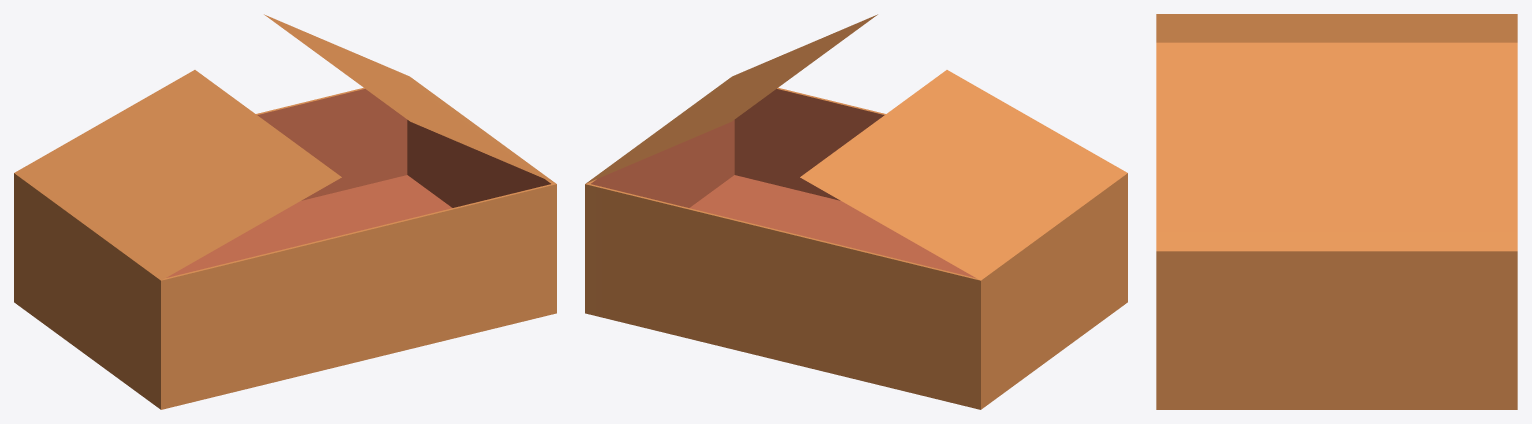
File: Map02_Decor_Thunggiay_03.fbx
3 views of the same model, side by side, from view 1: azimuth 30°, elevation 25°; view 2: azimuth 150°, elevation 25°; view 3: azimuth 270°, elevation 25° (orthographic). The views are drawn at different scales.
Visible parts, largest first — view 1: Map02_Decor; view 2: Map02_Decor; view 3: Map02_Decor.
Boxes of the visible parts, bbox=[...] form: Map02_Decor: bbox=[14, 14, 556, 409]; Map02_Decor: bbox=[585, 14, 1127, 409]; Map02_Decor: bbox=[1156, 14, 1517, 409].
Size of the model in its own units: 262 by 144 by 169.
